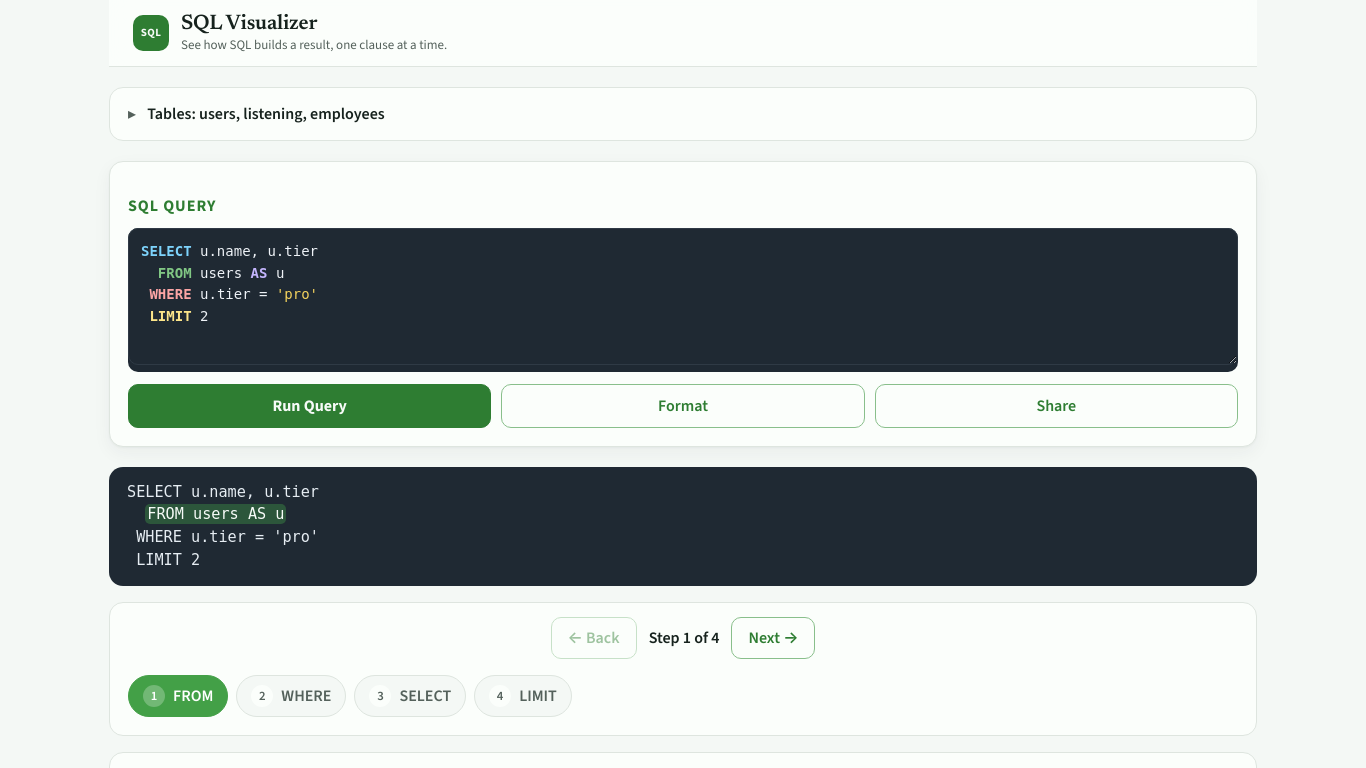
Test: App › shows Before and After together for WHERE
Click the button "Next →" at x=773, y=638, box top-left (731, 617), bottom-right (815, 659)
(page scrolled)
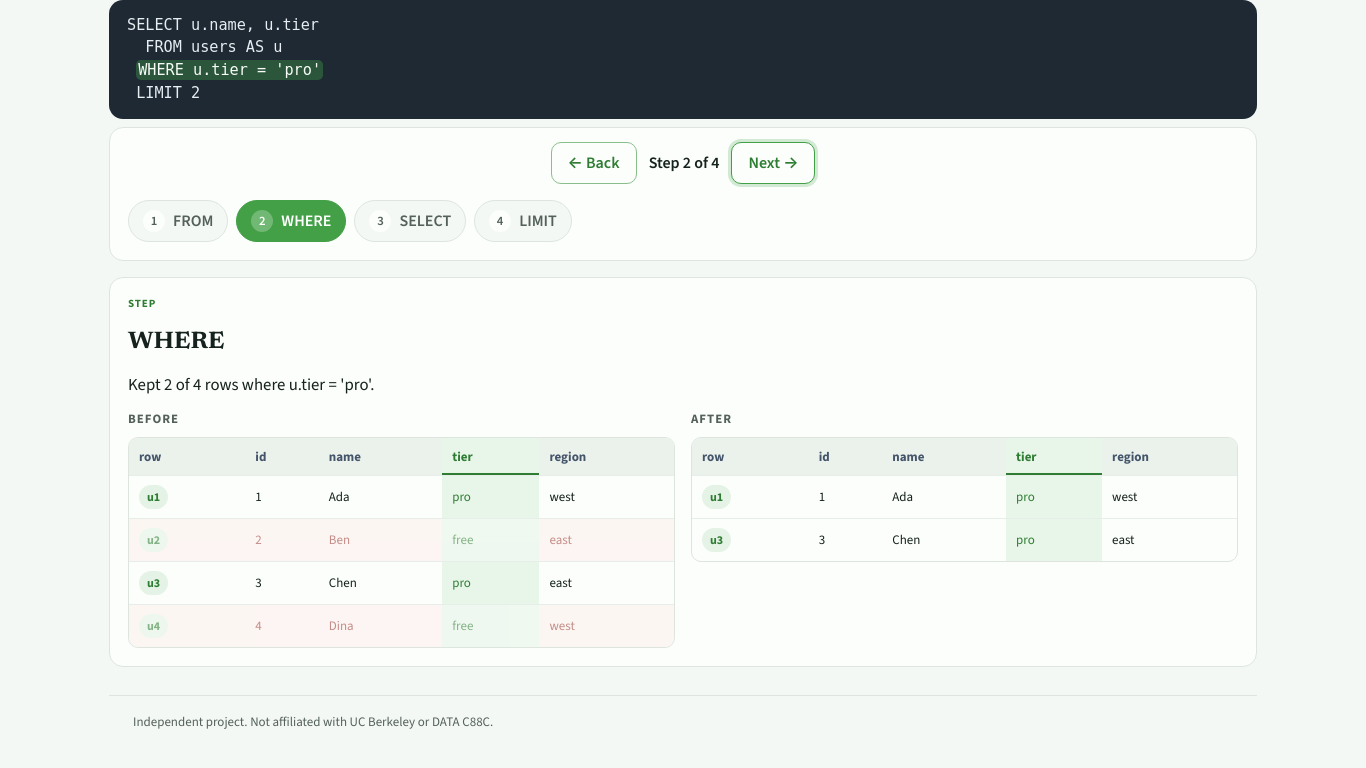
expect the text "Kept 2 of 4 rows where u.tier = 'pro'." is shown: met, box top-left (128, 373), bottom-right (374, 395)
